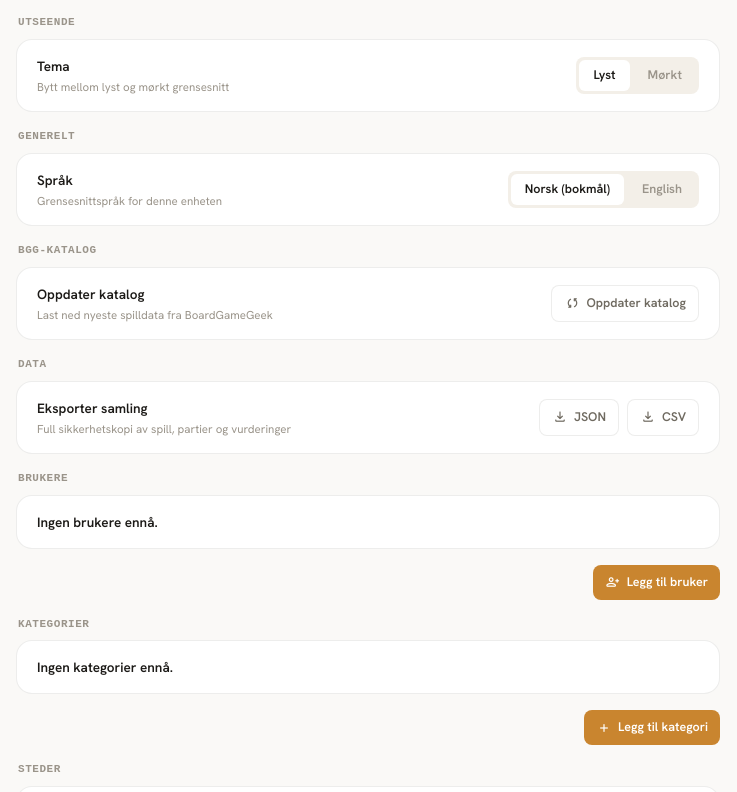
Test: Settings › renders sections and switches interface language
The image size is (737, 792).
Expected: the text "Utseende" is shown, [18, 16, 75, 28]
Click the button "English" at (662, 189), box [628, 174, 696, 205]
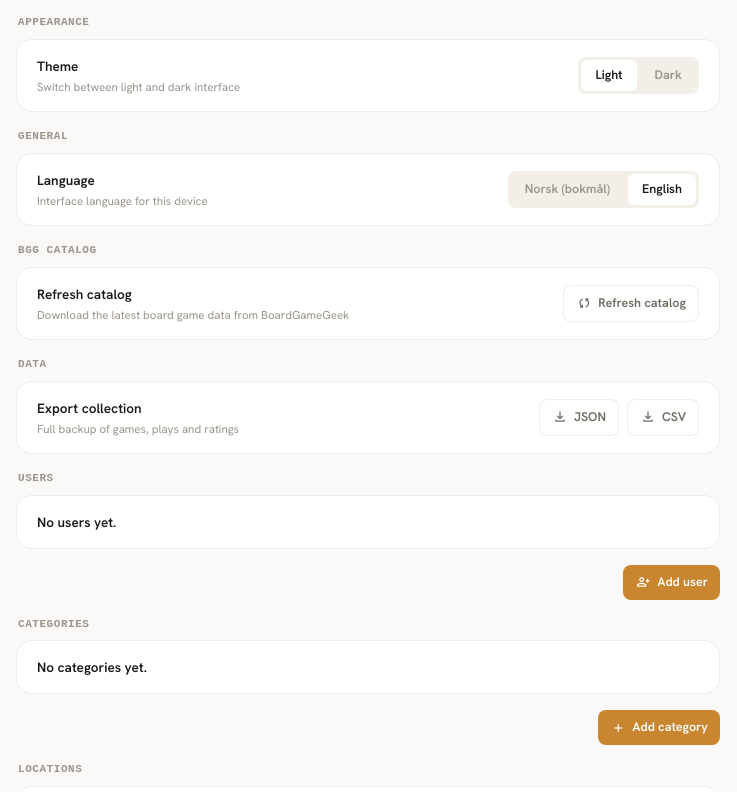
Expected: the text "Appearance" is shown, [18, 16, 90, 28]
Expected: the text "Language" is shown, [37, 170, 95, 188]
